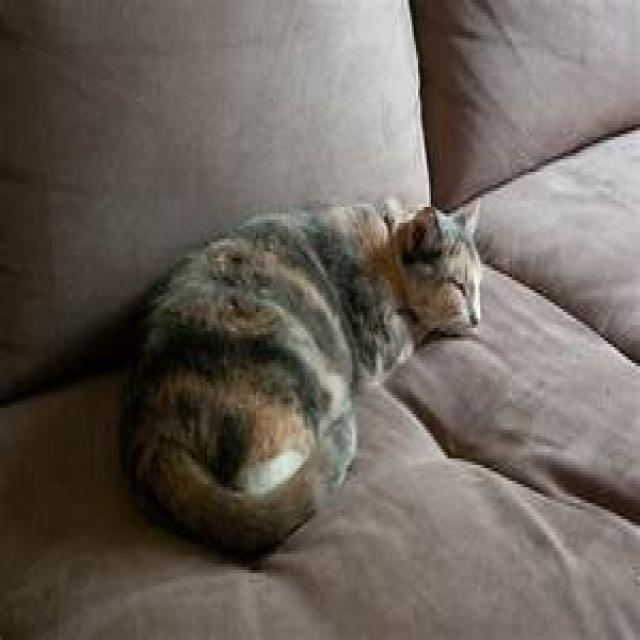cat: (115, 194, 482, 564)
